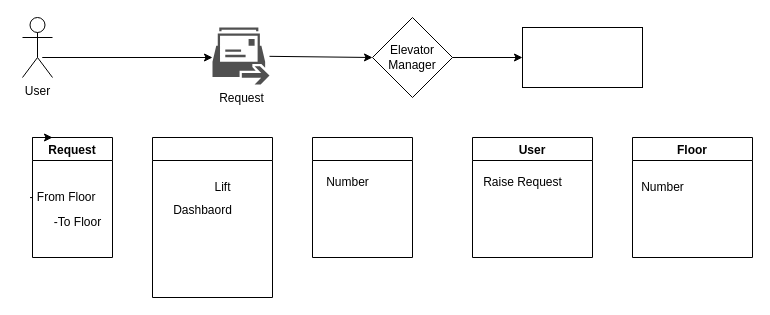
Image size: 770x315. Some labels were removed from this diagram. Each missing label, with the box of its shape:
Button: (312, 136, 412, 258)
Elevator: (152, 136, 272, 298)
Elevator Updown: (522, 26, 642, 88)
